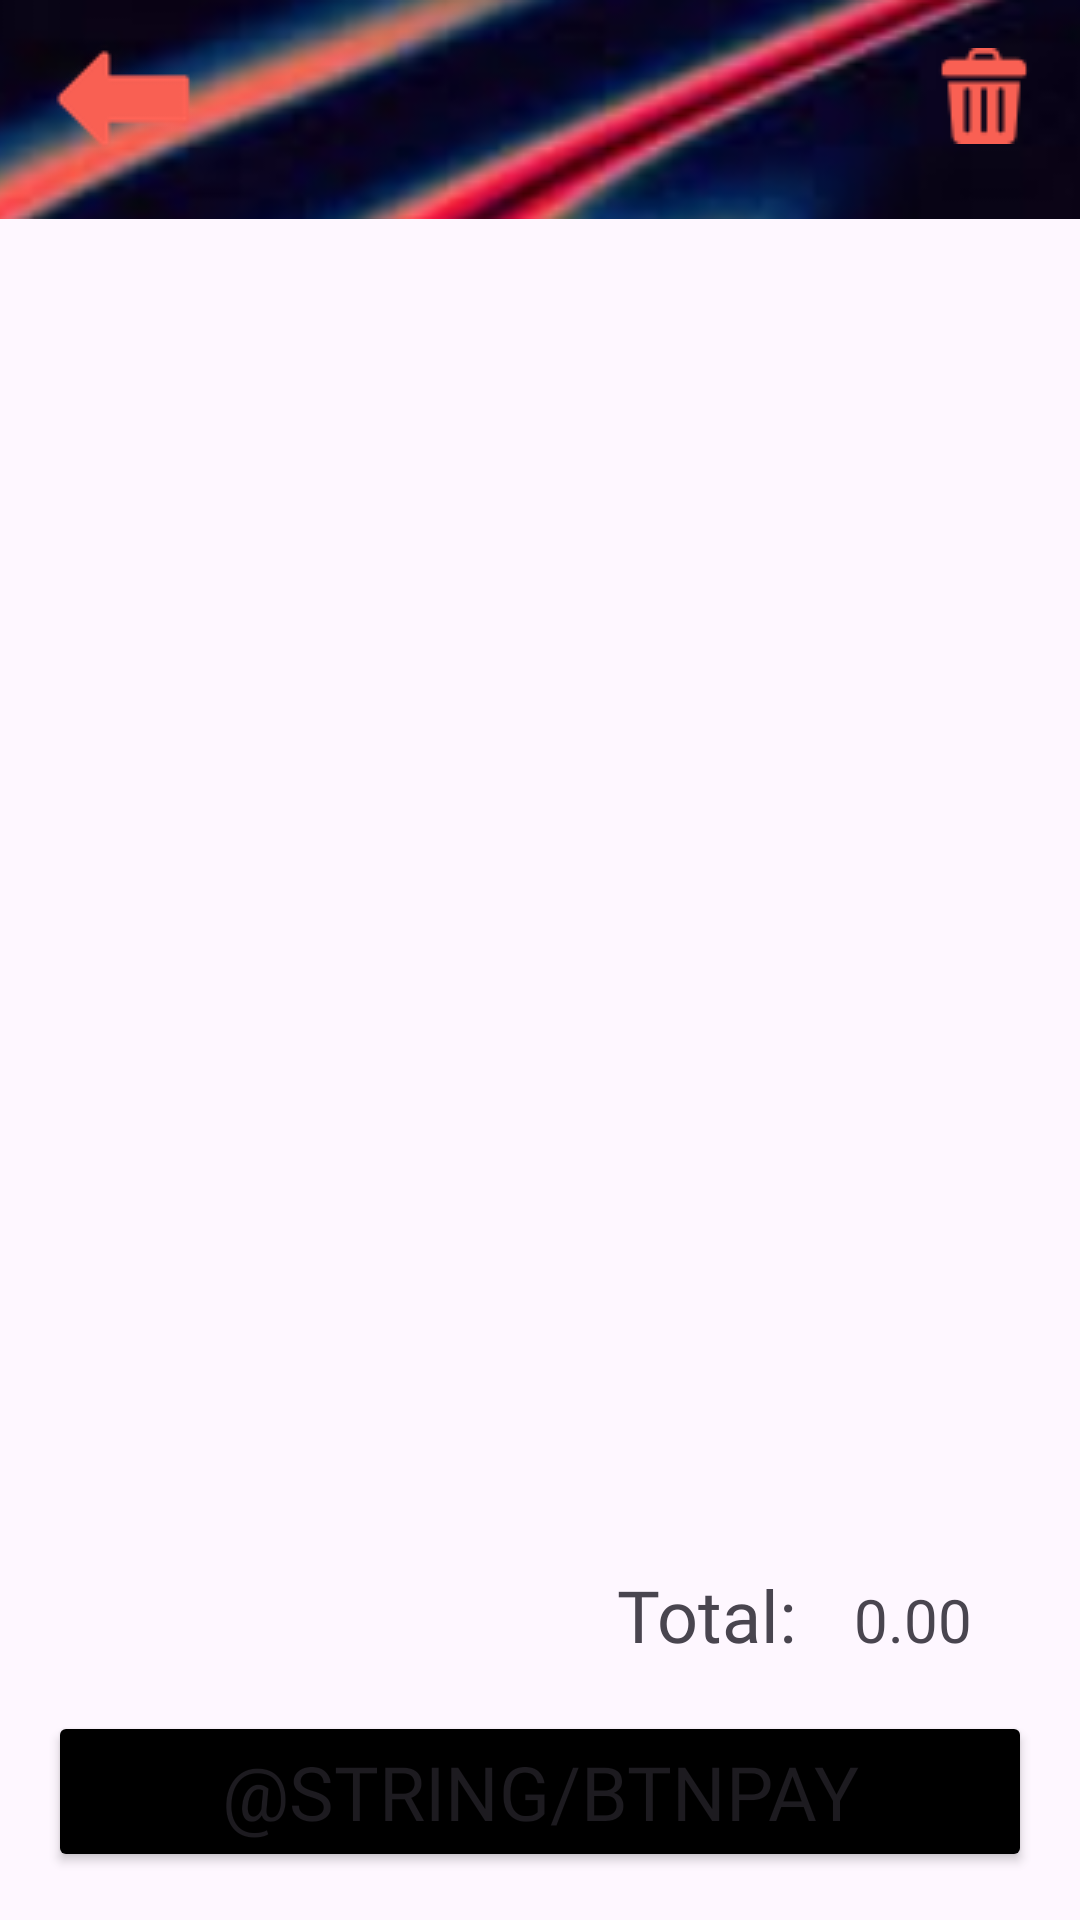

Screen size 1080×1920. Icon name, then its center in pixels as (x=x, y=y):
flecha volver peque: (x=123, y=99)
trash: (x=984, y=96)
